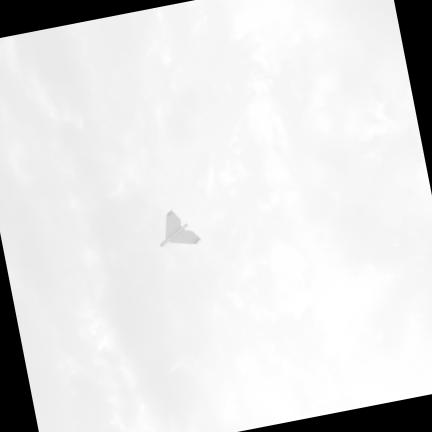Shahed: (161, 211, 200, 246)
